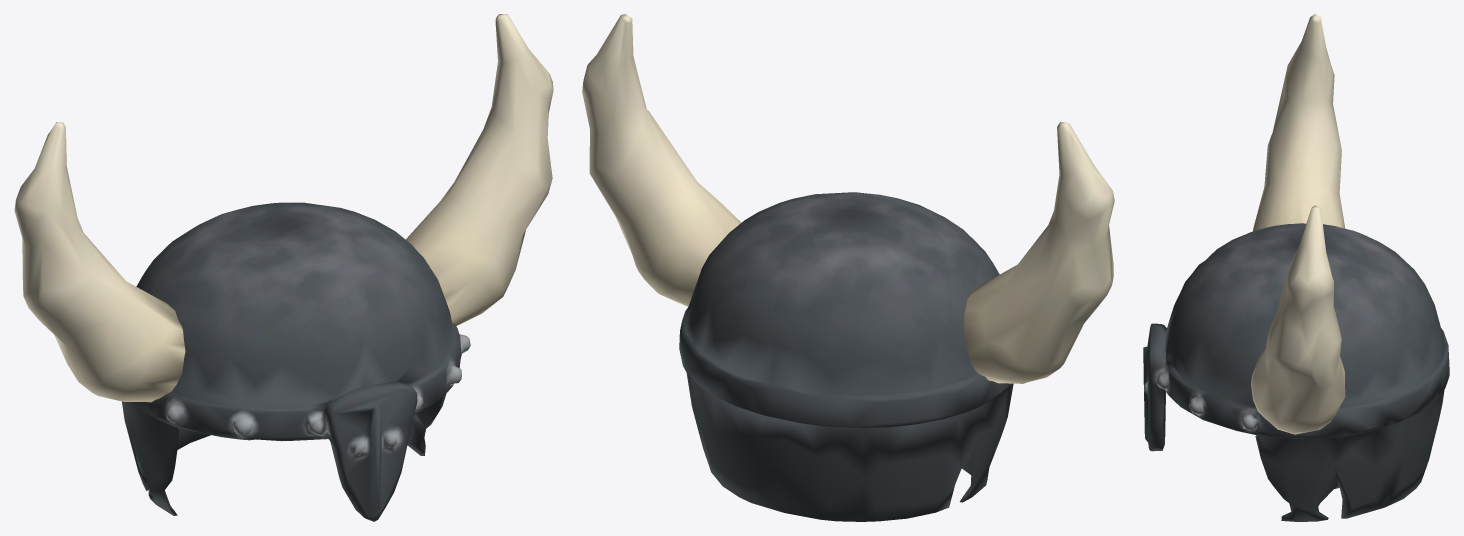
Rendered from horned-helmet.glb.
3 renders of one model, left to right at view 1: azimuth 30°, elevation 25°; view 2: azimuth 150°, elevation 25°; view 3: azimuth 270°, elevation 25°, orthographic. The views are drawn at different scales.
Visible parts, largest first — view 1: iron; view 2: iron; view 3: iron.
Boxes of the visible parts, <box> form: iron: <box>14,14,553,521</box>; iron: <box>582,14,1114,521</box>; iron: <box>1143,14,1449,521</box>.
Size of the model in its own units: 0.8366 by 0.6069 by 0.4727.
1 material, 1 textured.
